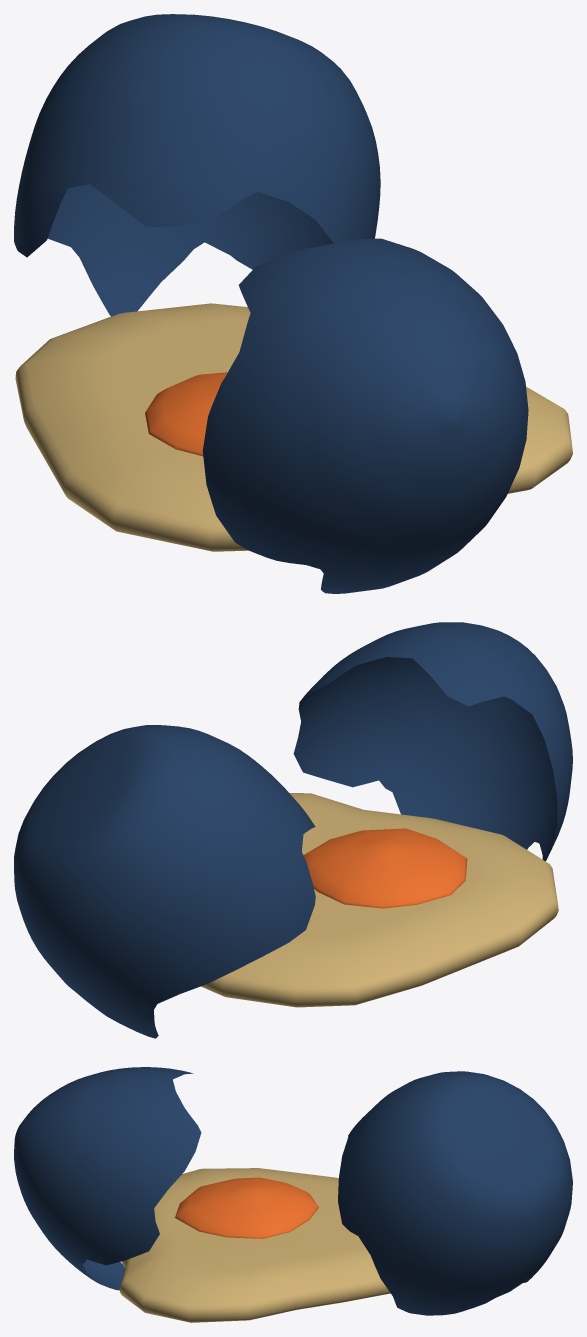
File: 臭鸡蛋.fbx
The picture shows the model from 3 angles, top to bottom: view 1: azimuth 30°, elevation 25°; view 2: azimuth 150°, elevation 25°; view 3: azimuth 270°, elevation 25°; orthographic projection. The views are drawn at different scales.
Visible parts, largest first — view 1: 蛋上; view 2: 蛋上; view 3: 蛋上.
Boxes of the visible parts, x1,y1,x2,y2 form: 蛋上: (14,14,572,593); 蛋上: (14,622,572,1038); 蛋上: (14,1067,572,1322).
Bounding box in the file's own units: 0.5618 × 0.433 × 0.9319.
